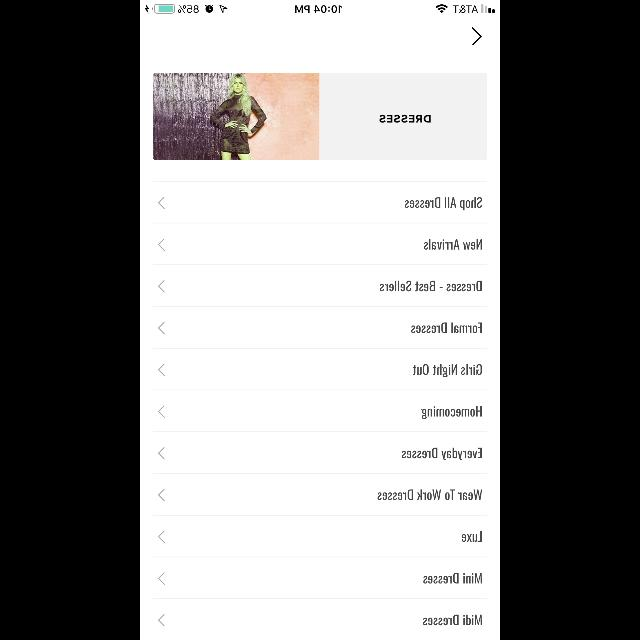icon: (472, 27, 482, 45), (158, 197, 165, 209), (158, 239, 165, 251), (158, 281, 165, 293), (158, 322, 165, 334), (158, 364, 165, 376), (158, 406, 165, 418), (158, 447, 165, 459), (158, 489, 165, 501), (158, 531, 165, 543), (158, 573, 165, 585), (158, 614, 165, 626)
image: (153, 74, 319, 160)
text: (380, 280, 482, 292), (378, 490, 482, 500), (412, 364, 482, 378), (401, 448, 481, 460), (404, 198, 482, 210), (411, 322, 482, 333), (421, 406, 482, 418), (422, 572, 482, 584), (422, 614, 482, 626), (423, 238, 481, 250), (380, 115, 430, 123), (461, 532, 481, 542)
uppertaskbar: (140, 0, 500, 14)
